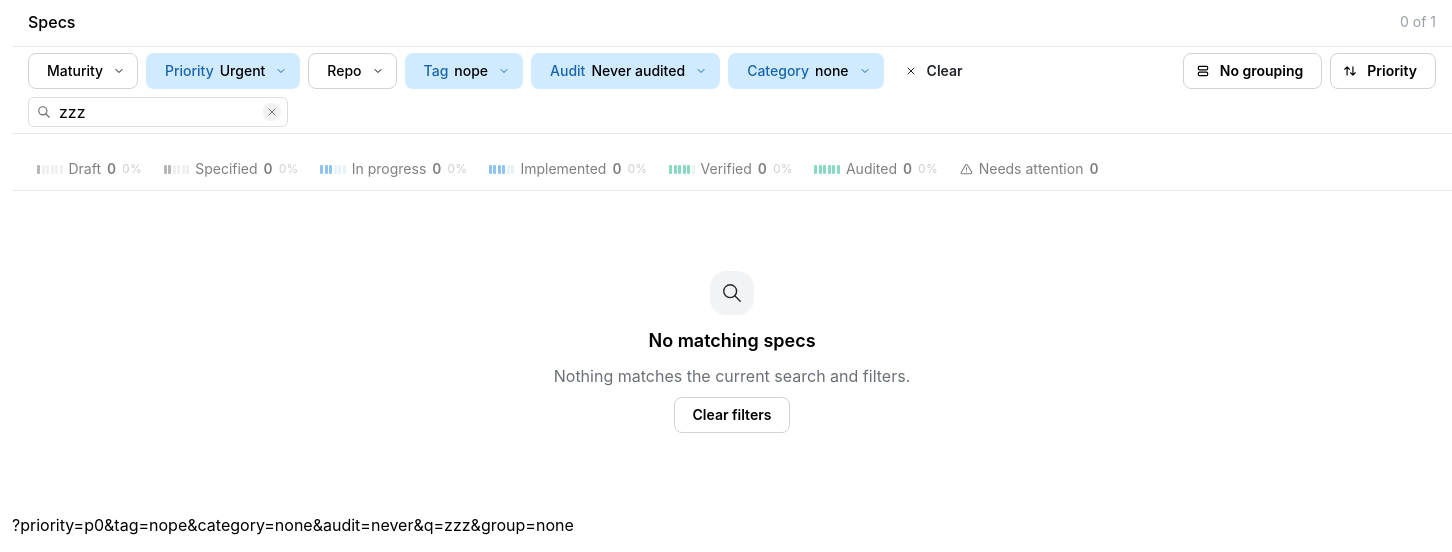
list "Clear" removes every filter in one URL update › Spec list: toolbar Clear drops all filters; "Clear filters" also drops the search
Later steps or results of the test are not shown.
Click the button "Clear filters": (732,415) [674,397,790,433]
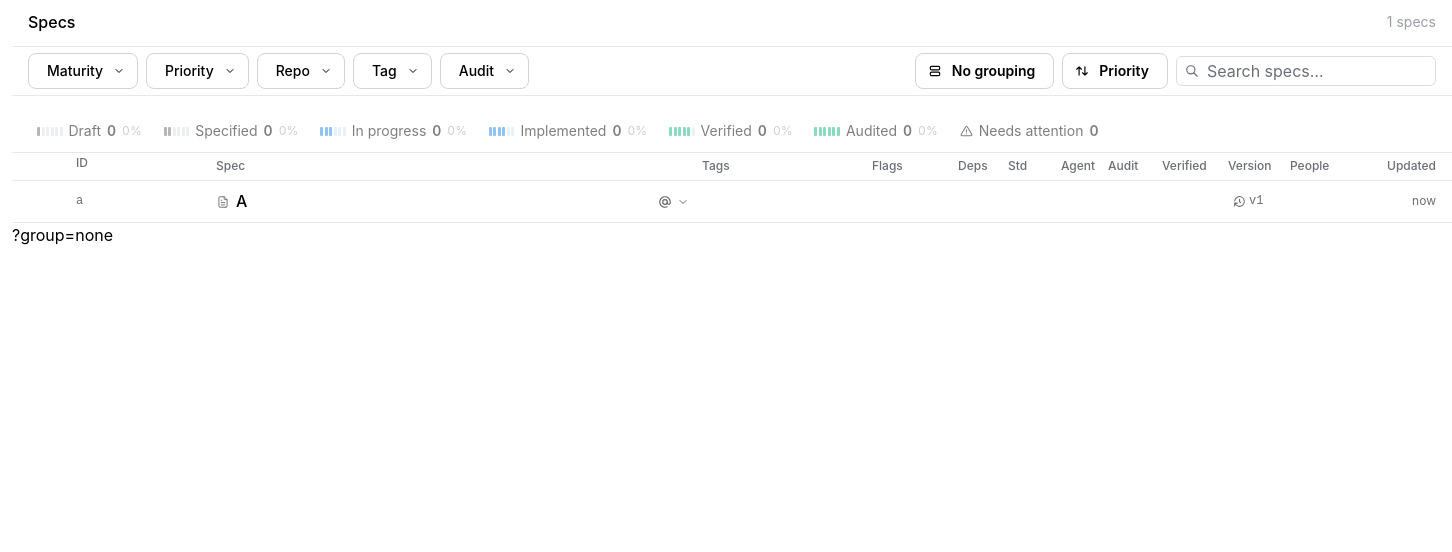
Result: the text with test id "where" reads "?group=none" at [12,225,113,245]
